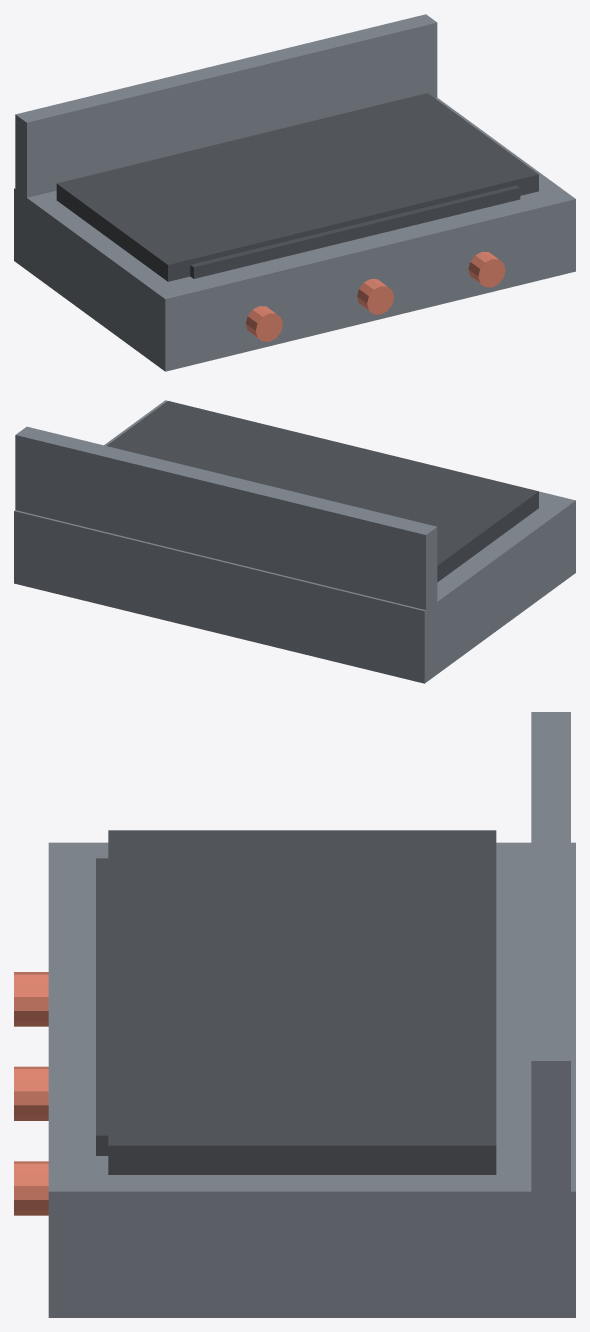
Rendered from griddle.glb.
The picture shows the model from 3 angles, top to bottom: view 1: azimuth 30°, elevation 25°; view 2: azimuth 150°, elevation 25°; view 3: azimuth 270°, elevation 25°; orthographic projection. The views are drawn at different scales.
Visible parts, largest first — view 1: body, plate, splash, trough, knobs; view 2: body, splash, plate; view 3: plate, body, splash, knobs, trough.
Boxes of the visible parts, x1=… form: body: x1=14, y1=97, x2=575, y2=371; plate: x1=56, y1=93, x2=538, y2=281; splash: x1=15, y1=14, x2=437, y2=197; trough: x1=190, y1=185, x2=520, y2=278; knobs: x1=245, y1=251, x2=505, y2=341; body: x1=14, y1=400, x2=575, y2=683; splash: x1=15, y1=426, x2=437, y2=611; plate: x1=107, y1=401, x2=538, y2=582; plate: x1=108, y1=830, x2=496, y2=1174; body: x1=48, y1=842, x2=575, y2=1317; splash: x1=531, y1=712, x2=570, y2=1196; knobs: x1=14, y1=972, x2=48, y2=1215; trough: x1=96, y1=858, x2=108, y2=1155.
Size of the model in its own units: 1.66 by 0.57 by 1.13.
